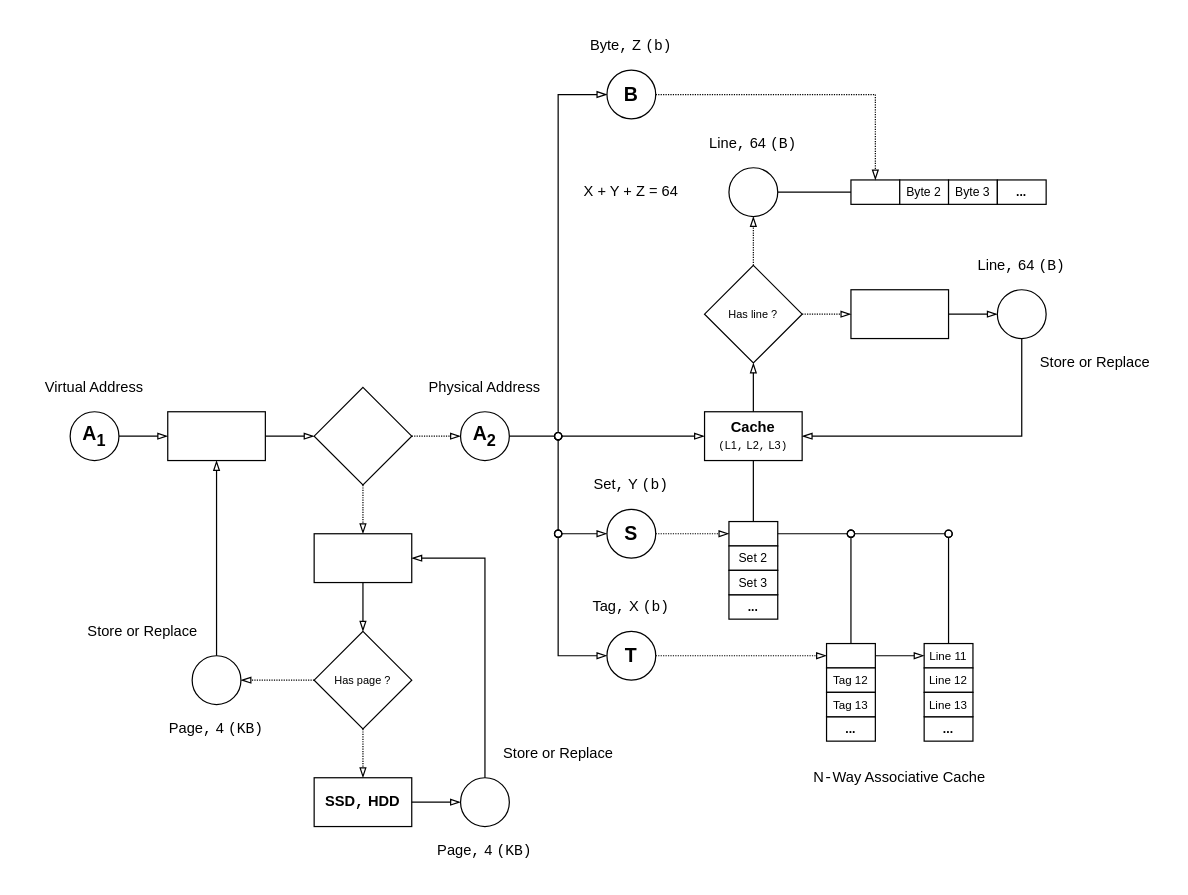
The diagram is 1188 pixels wide and 895 high, and some of its shapes have lost their labels. Each missing label, with the centre of its shape:
Byte 1: (x=875, y=191)
Has entry ?: (x=362, y=435)
L 1: (x=753, y=192)
L 2: (x=1021, y=314)
P 1: (x=216, y=680)
P 2: (x=484, y=802)
Page Table ( main memory ): (x=362, y=558)
RAM: (x=899, y=314)
Set 1: (x=753, y=533)
Tag 11: (x=850, y=655)
TLB: (x=216, y=436)
